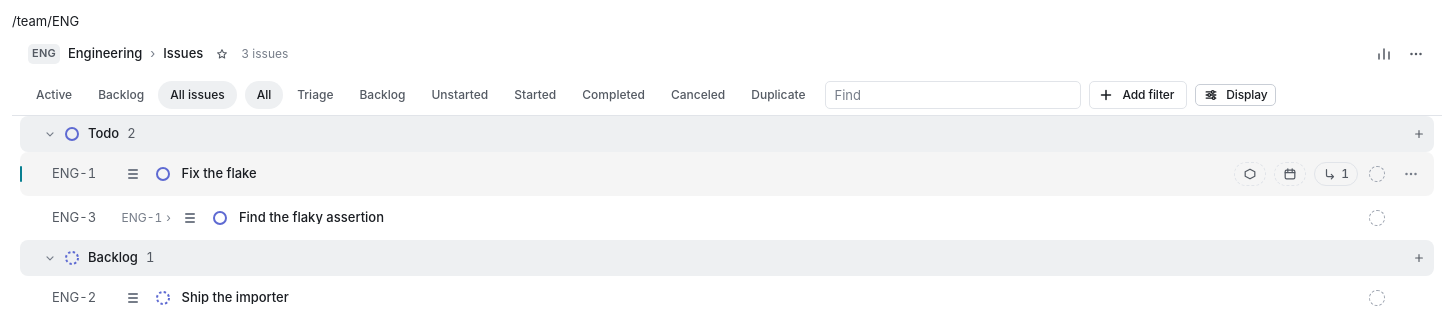
Test: the scope pills › press the same filter the bar would have written, and read it back from the URL
The image size is (1452, 325).
Click the 1st button "Backlog". click: (121, 95)
box: [86,81,156,109]
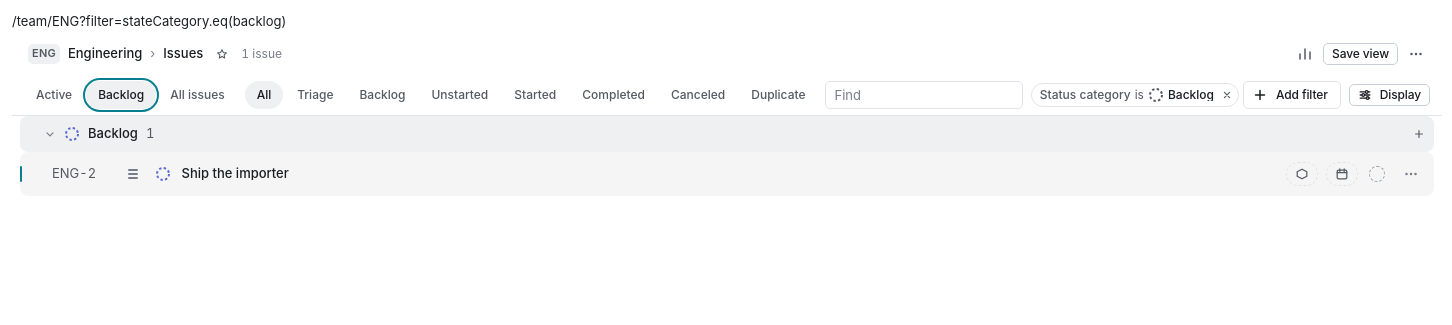
Expected: the cells read "ENG-2Ship the importer", in this order, [20,152,1434,196]
Result: the text with test id "location" shows "filter=" at [12,13,286,29]
Click the button "All issues". click: (197, 95)
box: [158,81,237,109]
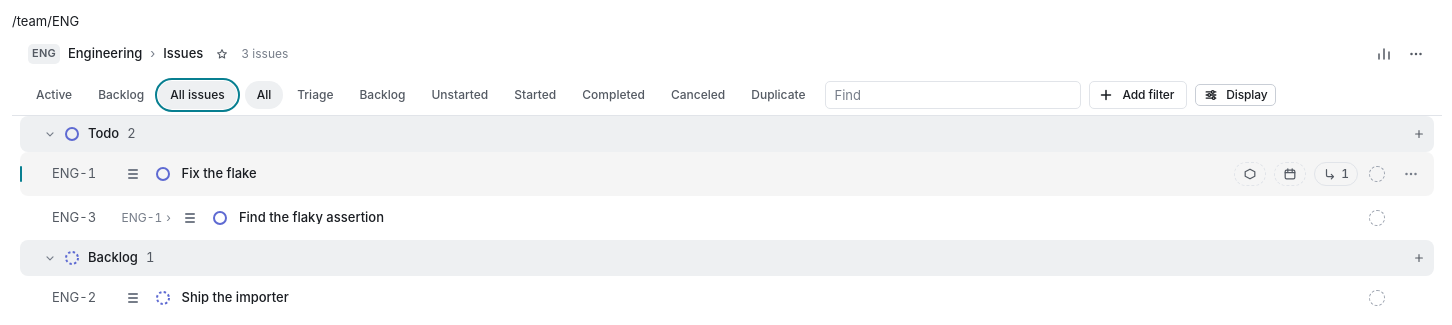
Expected: the text with test id "location" reads "/team/ENG", [12,13,79,29]
Result: the number of cells is 3 at [20,152,1434,196]; [52,206,1388,228]; [52,286,1388,308]
